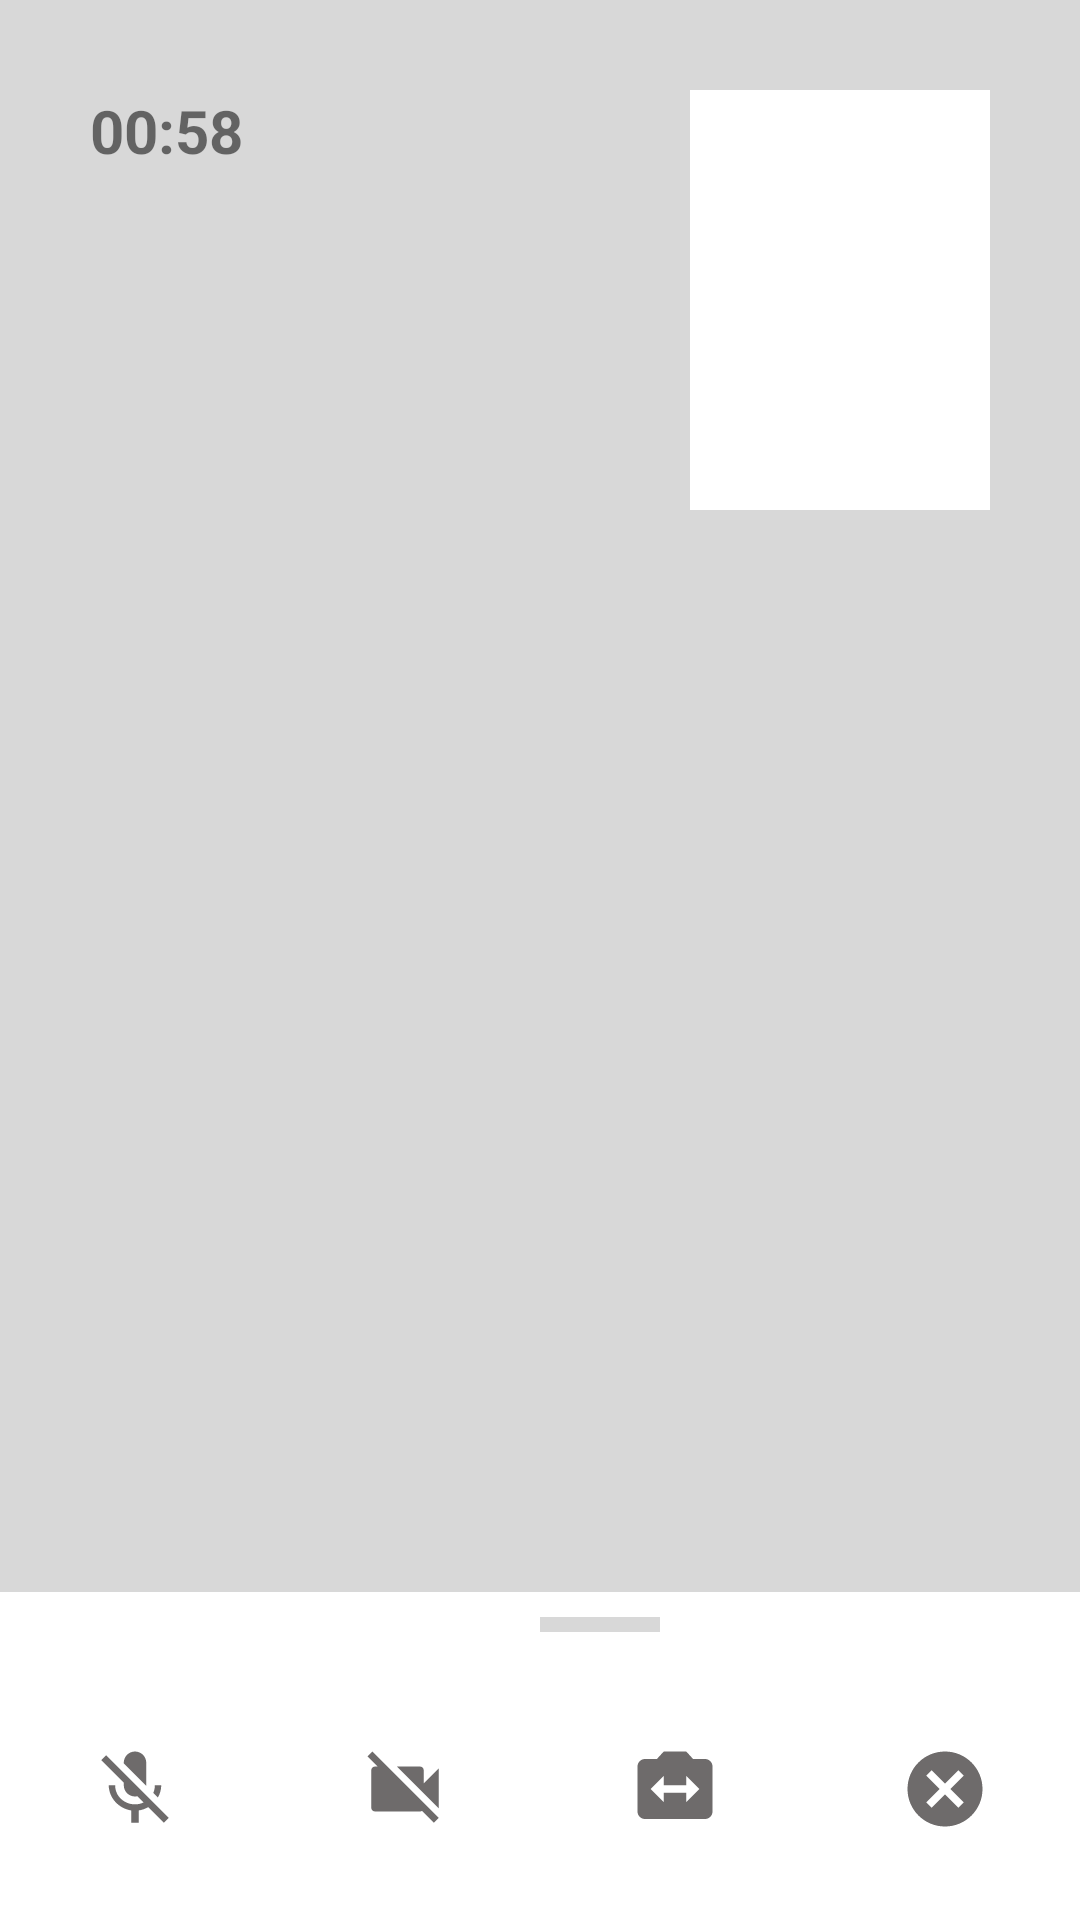

Named icons in this screenshot (1080px x 1920px) and their bounding boxes, [left=x1, top=y1, right=x2, bottom=y2]:
cancel: [left=907, top=1751, right=983, bottom=1827]
switch camera: [left=637, top=1751, right=713, bottom=1819]
